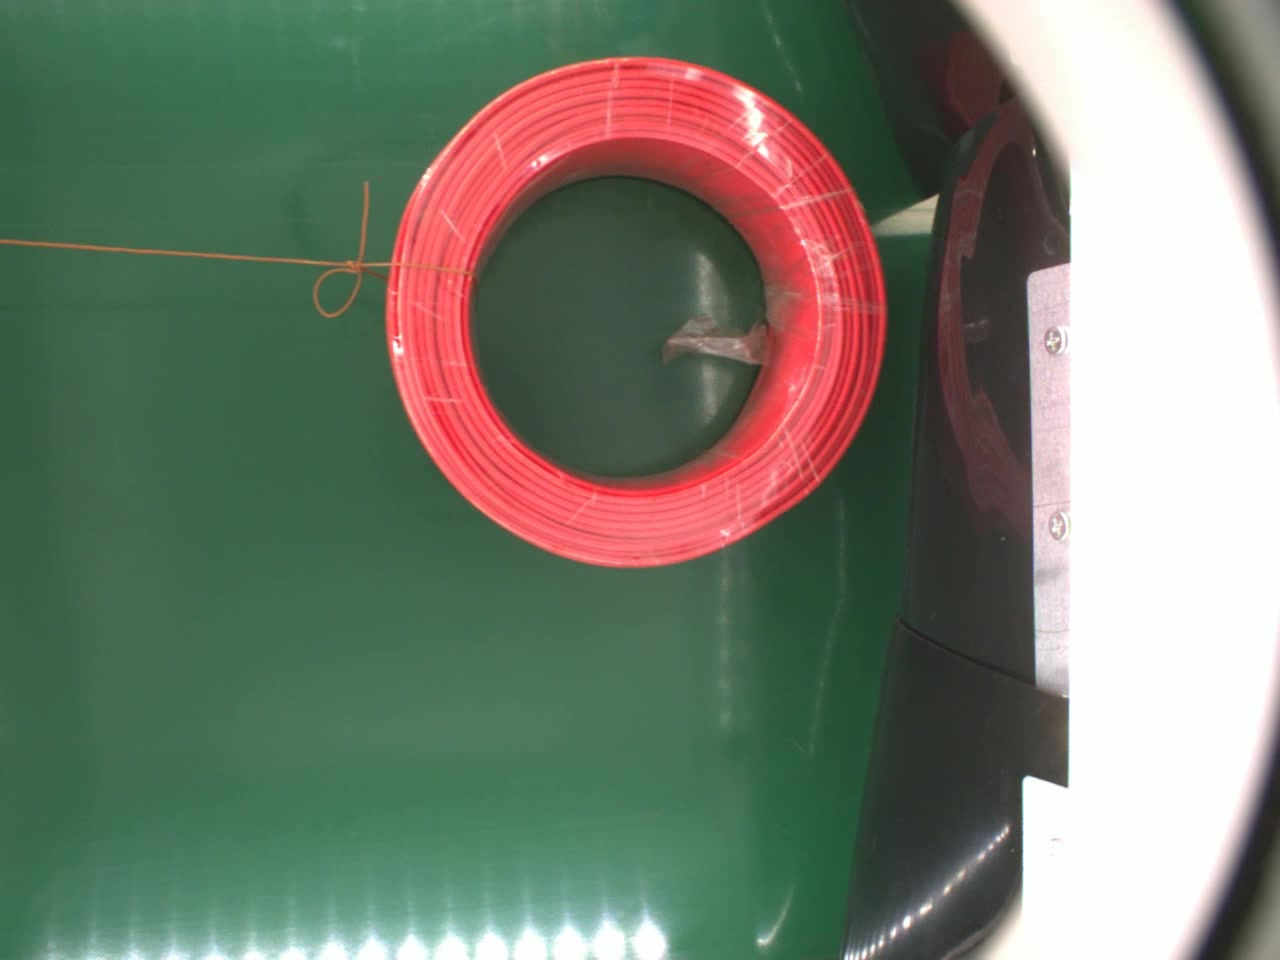red: (382, 51, 892, 579)
